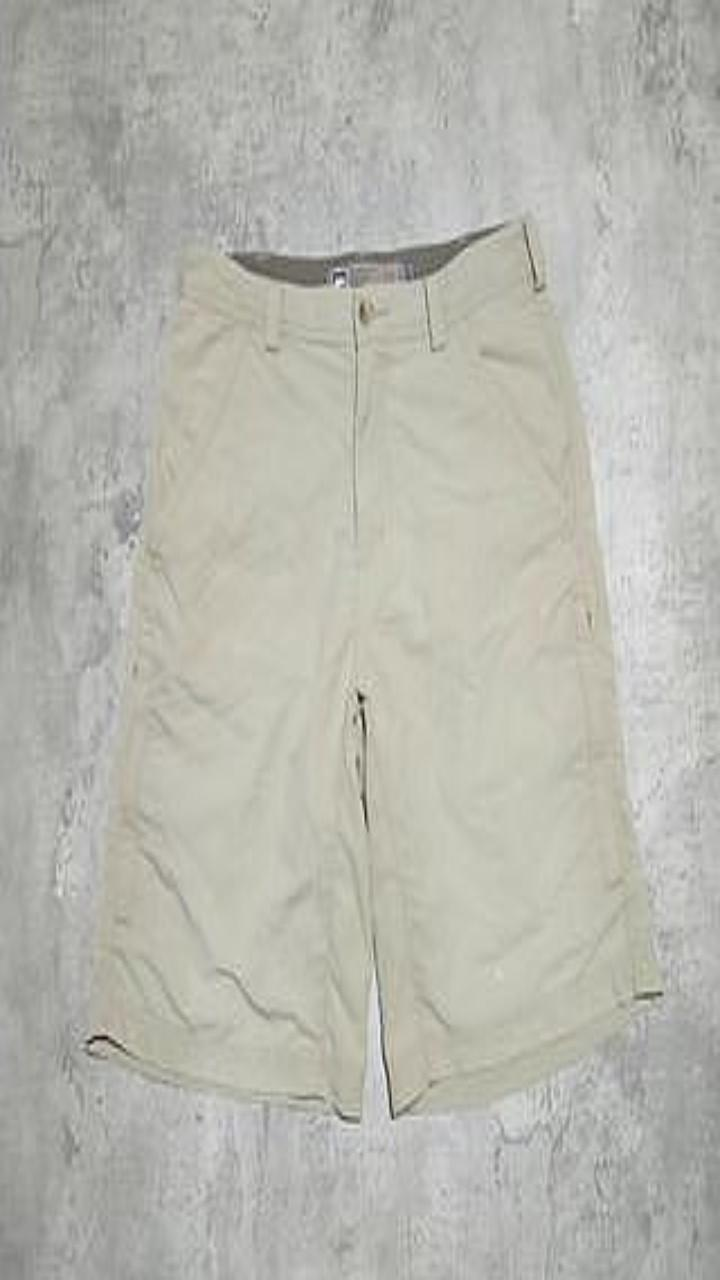Shorts: (84, 215, 662, 1118)
